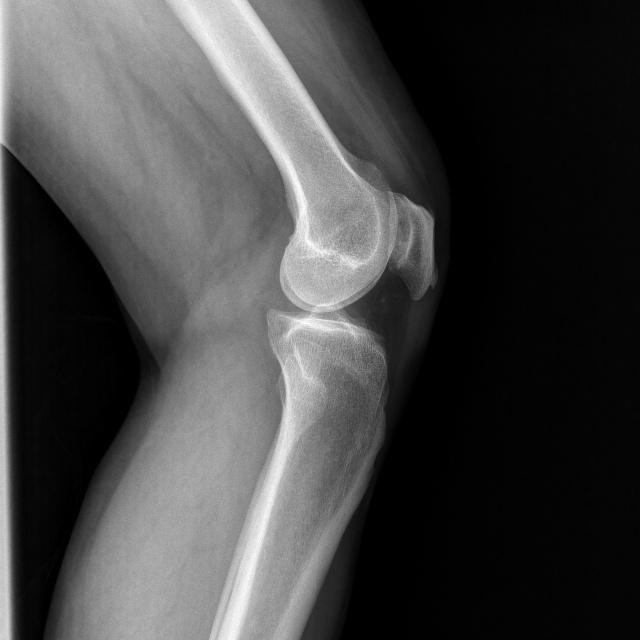Knee: (261, 186, 435, 379)
